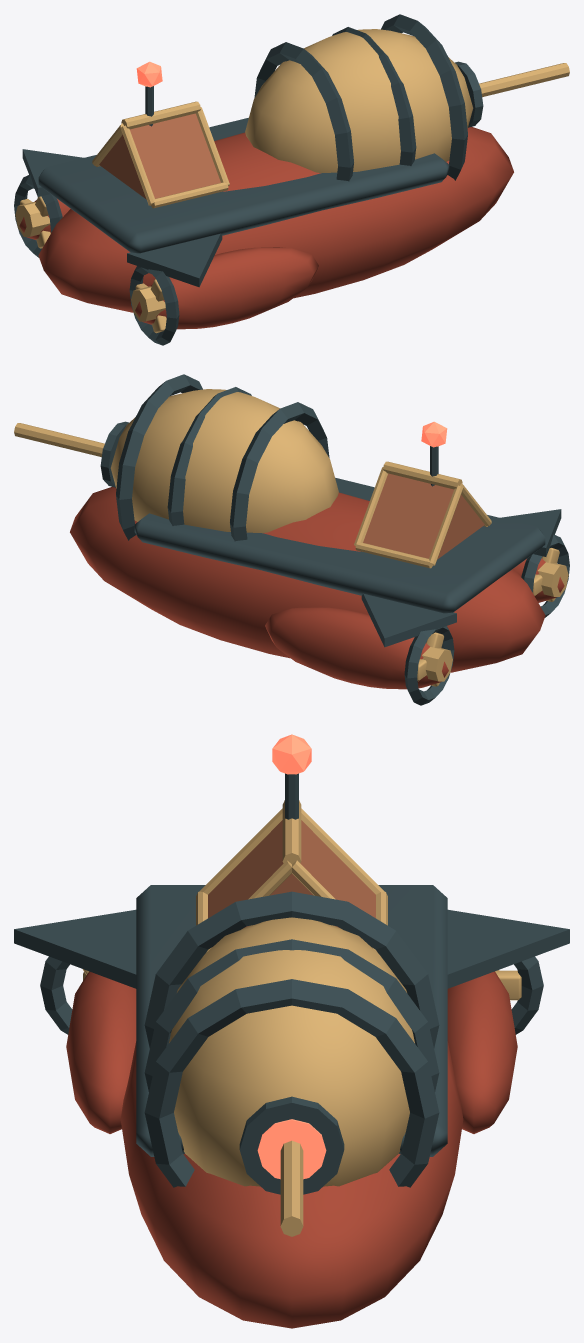
Rendered from enemy-kamikaze.glb.
The picture shows the model from 3 angles, top to bottom: view 1: azimuth 30°, elevation 25°; view 2: azimuth 150°, elevation 25°; view 3: azimuth 270°, elevation 25°; orthographic projection. The views are drawn at different scales.
Parts seen in each view (by area): view 1: enemy-kamikaze / Paint | Hanseatic oxblood, enemy-kamikaze / Hull | charcoal iron, enemy-kamikaze / Fittings | worn maritime brass, Steep Hanseatic roof.002, enemy-kamikaze / Lamp | hostile coral; view 2: enemy-kamikaze / Paint | Hanseatic oxblood, enemy-kamikaze / Hull | charcoal iron, enemy-kamikaze / Fittings | worn maritime brass, Steep Hanseatic roof.002, enemy-kamikaze / Lamp | hostile coral; view 3: enemy-kamikaze / Hull | charcoal iron, enemy-kamikaze / Paint | Hanseatic oxblood, enemy-kamikaze / Fittings | worn maritime brass, Steep Hanseatic roof.002, enemy-kamikaze / Lamp | hostile coral.
Part boxes in pixels (left/top/right/bottom): enemy-kamikaze / Paint | Hanseatic oxblood: left=19, top=127, right=513, bottom=329; enemy-kamikaze / Hull | charcoal iron: left=14, top=14, right=483, bottom=345; enemy-kamikaze / Fittings | worn maritime brass: left=15, top=29, right=569, bottom=333; Steep Hanseatic roof.002: left=99, top=113, right=220, bottom=199; enemy-kamikaze / Lamp | hostile coral: left=136, top=61, right=162, bottom=87; enemy-kamikaze / Paint | Hanseatic oxblood: left=70, top=487, right=564, bottom=689; enemy-kamikaze / Hull | charcoal iron: left=100, top=374, right=569, bottom=705; enemy-kamikaze / Fittings | worn maritime brass: left=14, top=389, right=568, bottom=686; Steep Hanseatic roof.002: left=363, top=473, right=484, bottom=559; enemy-kamikaze / Lamp | hostile coral: left=421, top=421, right=447, bottom=447; enemy-kamikaze / Hull | charcoal iron: left=14, top=773, right=569, bottom=1194; enemy-kamikaze / Paint | Hanseatic oxblood: left=66, top=971, right=517, bottom=1328; enemy-kamikaze / Fittings | worn maritime brass: left=82, top=800, right=521, bottom=1236; Steep Hanseatic roof.002: left=208, top=820, right=375, bottom=928; enemy-kamikaze / Lamp | hostile coral: left=257, top=734, right=326, bottom=1179.
Size of the model in its own units: 4.54 by 2.13 by 2.66.
